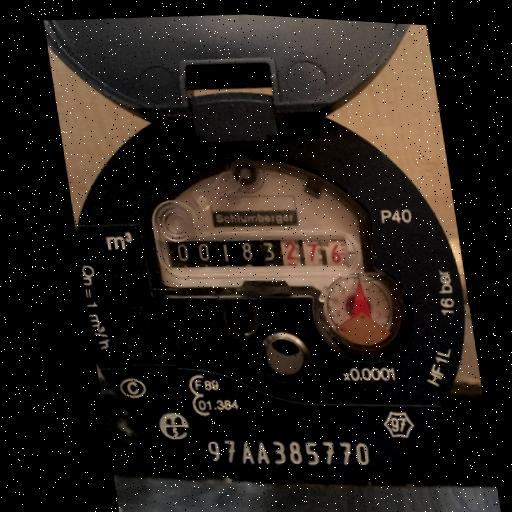0: (167, 240, 195, 270), (190, 239, 217, 269)
1: (214, 239, 240, 268)
2: (279, 238, 303, 267)
3: (259, 238, 284, 268)
6: (321, 237, 346, 266)
7: (299, 238, 326, 268)
8: (236, 239, 263, 269)
border_water_meter_number: (154, 215, 365, 294)
